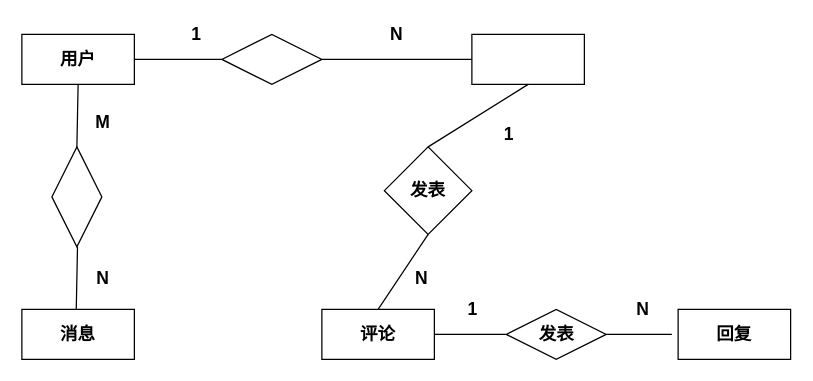
This 813x381 diagram has some shape labels left out. The shapes that lost their labels are listed below. From the top down, each one's centre as x and y in pixels, then its label:
At point 271,58: "发布".
At point 527,58: "帖子".
At point 76,196: "接收".
